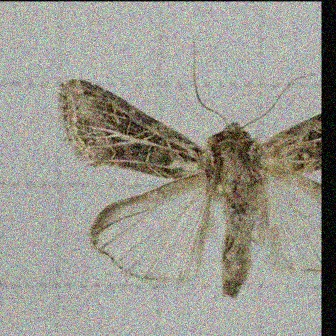Spodoptera litura: (58, 38, 321, 300)
